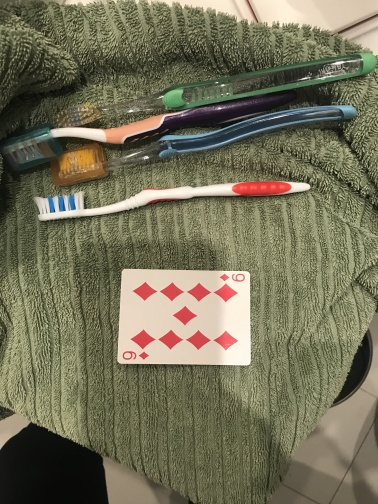nine: (115, 267, 253, 367)
